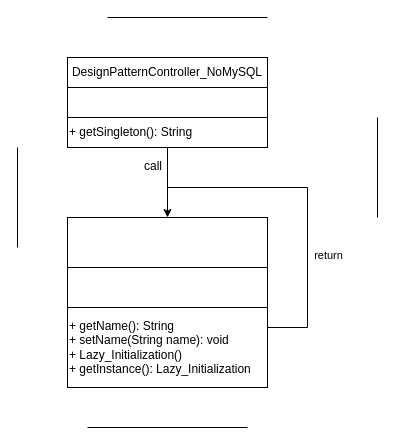
Image size: 396x446. Some labels were removed from this diagram. Each missing label, with the box of its shape:
- name: String - instance: Lazy_Initialization: (66, 266, 268, 308)
Lazy_Initialization (SingleObject): (66, 216, 268, 268)
